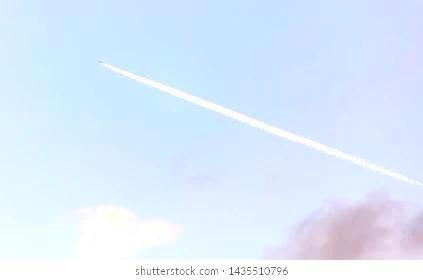Plane: (88, 54, 173, 98)
